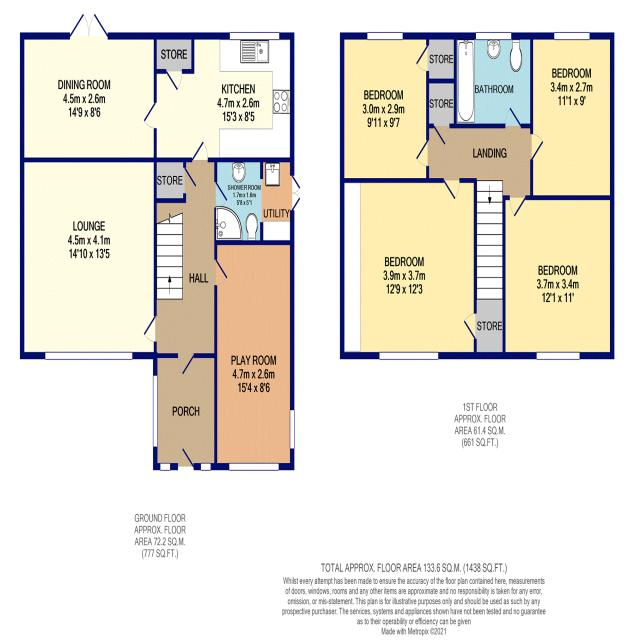DOOR: (415, 139, 430, 168), (177, 446, 194, 471), (214, 259, 229, 287), (530, 133, 545, 161), (433, 123, 451, 146), (504, 106, 522, 129), (177, 352, 194, 376), (443, 177, 460, 201), (214, 181, 228, 210), (463, 312, 477, 341), (143, 101, 157, 129), (183, 167, 197, 195), (143, 315, 157, 343), (415, 45, 429, 73), (166, 68, 183, 91), (192, 140, 209, 163), (509, 195, 526, 218)
DOUBLE DOOR: (69, 12, 108, 39), (290, 174, 301, 211)
ROOM: (19, 157, 157, 360), (339, 177, 477, 361), (20, 11, 157, 163), (143, 32, 295, 163), (214, 239, 295, 471), (502, 195, 615, 360), (530, 32, 615, 201), (340, 32, 430, 184)
WINDOW: (44, 351, 133, 361), (379, 351, 439, 360), (229, 31, 280, 41), (229, 462, 279, 471), (536, 351, 580, 360), (475, 31, 512, 41), (153, 375, 158, 448), (367, 31, 403, 41), (554, 31, 590, 41), (289, 409, 295, 449), (200, 462, 211, 471), (160, 462, 170, 471)
